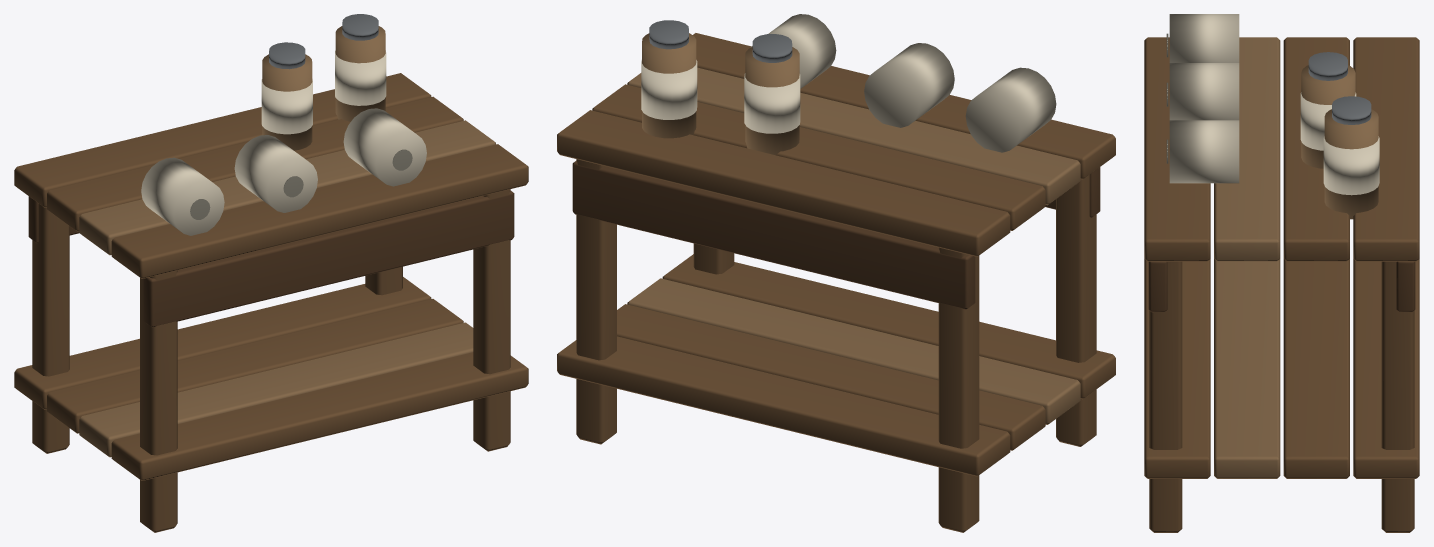
File: MedicalStation02.fbx
The picture shows the model from 3 angles, left to right: view 1: azimuth 30°, elevation 25°; view 2: azimuth 150°, elevation 25°; view 3: azimuth 270°, elevation 25°; orthographic projection. The views are drawn at different scales.
Visible parts, largest first — view 1: MedicalStation02.001; view 2: MedicalStation02.001; view 3: MedicalStation02.001.
Part boxes in pixels (bbox=[...]): MedicalStation02.001: bbox=[14, 14, 528, 532]; MedicalStation02.001: bbox=[557, 14, 1115, 532]; MedicalStation02.001: bbox=[1144, 14, 1419, 532].
Bounding box in the file's own units: 125 × 114 × 71.2.
